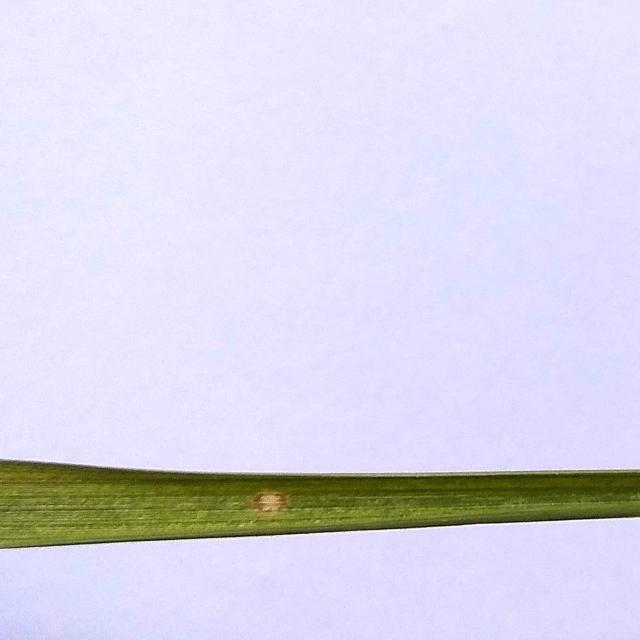Blast: (247, 490, 296, 520)
